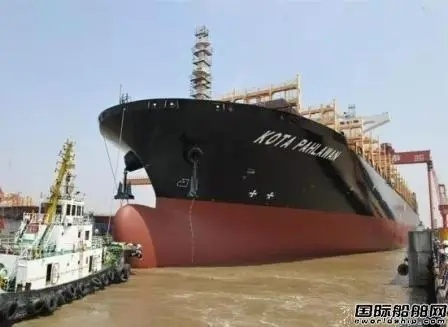Cargoship: (92, 22, 448, 270)
